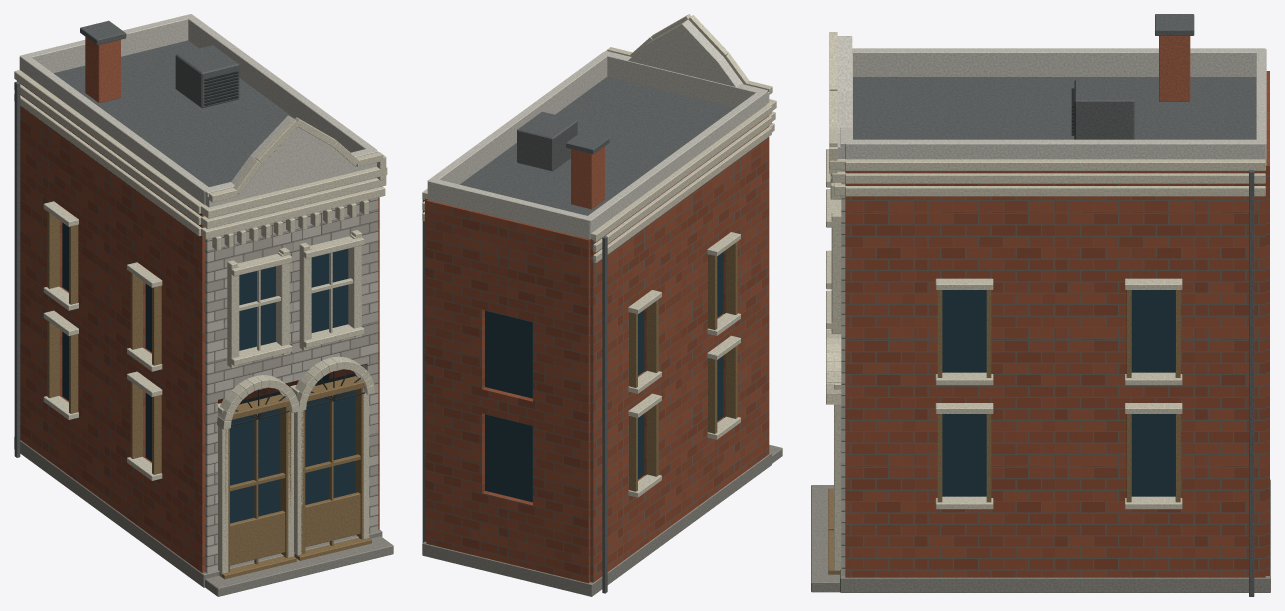
The model's file is CLSTGA11_lod1.glb.
The picture shows the model from 3 angles, left to right: view 1: azimuth 30°, elevation 25°; view 2: azimuth 150°, elevation 25°; view 3: azimuth 270°, elevation 25°; orthographic projection. The views are drawn at different scales.
Parts seen in each view (by area): view 1: CLSTGA11_LOD1; view 2: CLSTGA11_LOD1; view 3: CLSTGA11_LOD1.
Part boxes in pixels (<box>): CLSTGA11_LOD1: <box>14,14,393,596</box>; CLSTGA11_LOD1: <box>422,14,782,596</box>; CLSTGA11_LOD1: <box>811,14,1270,596</box>.
Size of the model in its own units: 3.71 by 8.04 by 6.57.
Materials: 11 (9 with a texture image).
